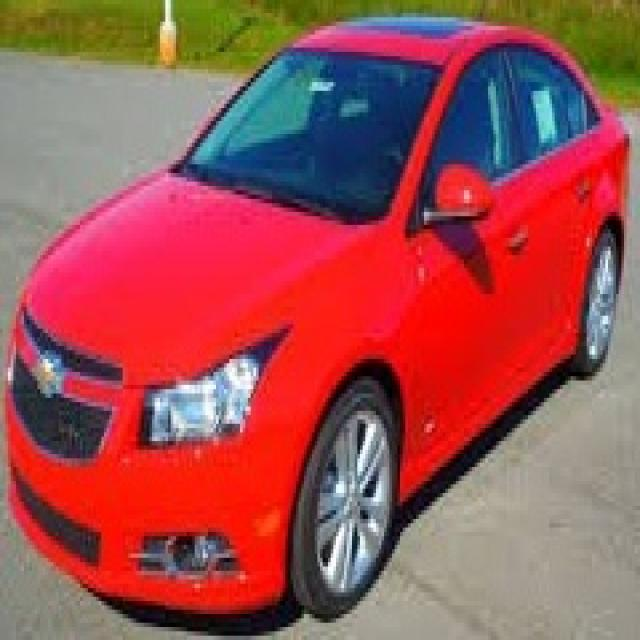red: (20, 18, 621, 622)
